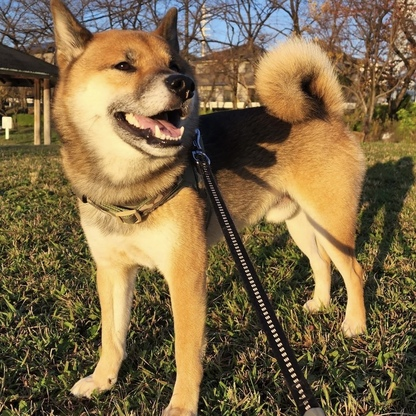shiba: (40, 1, 374, 416)
